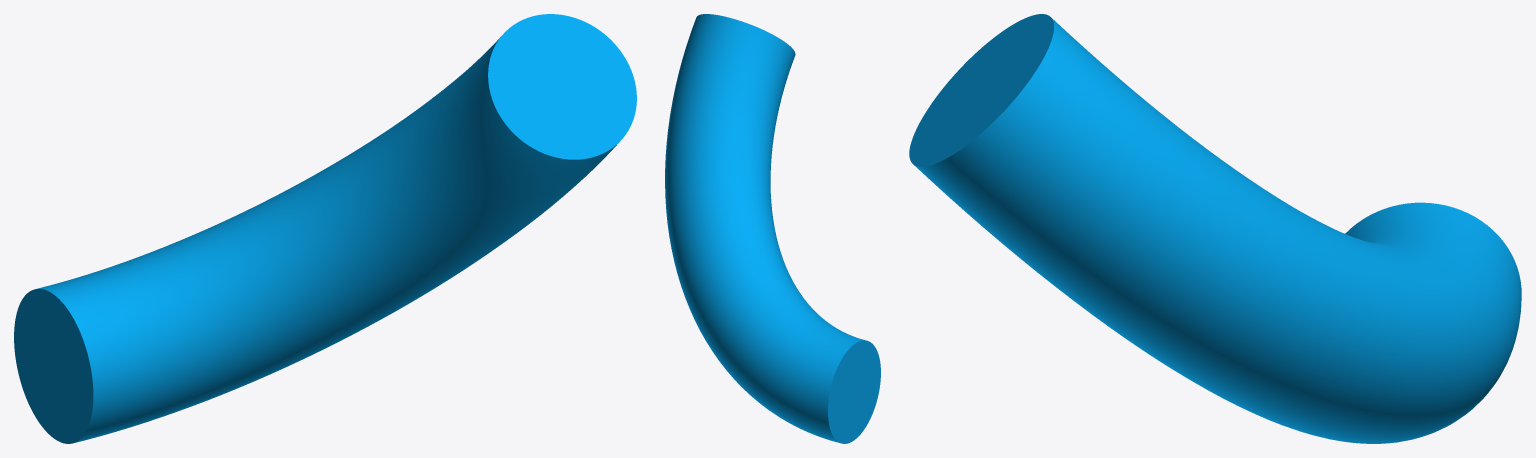
The model's file is curved-cylinder.glb.
The picture shows the model from 3 angles, left to right: view 1: azimuth 30°, elevation 25°; view 2: azimuth 150°, elevation 25°; view 3: azimuth 270°, elevation 25°; orthographic projection. The views are drawn at different scales.
Parts seen in each view (by area): view 1: mesh_id56; view 2: mesh_id56; view 3: mesh_id56.
Boxes of the visible parts, x1,y1,x2,y2 form: mesh_id56: [14, 14, 636, 443]; mesh_id56: [665, 14, 880, 443]; mesh_id56: [909, 14, 1521, 443].
Bounding box in the file's own units: 0.2432 × 0.2563 × 0.2512.
1 material, 1 textured.
